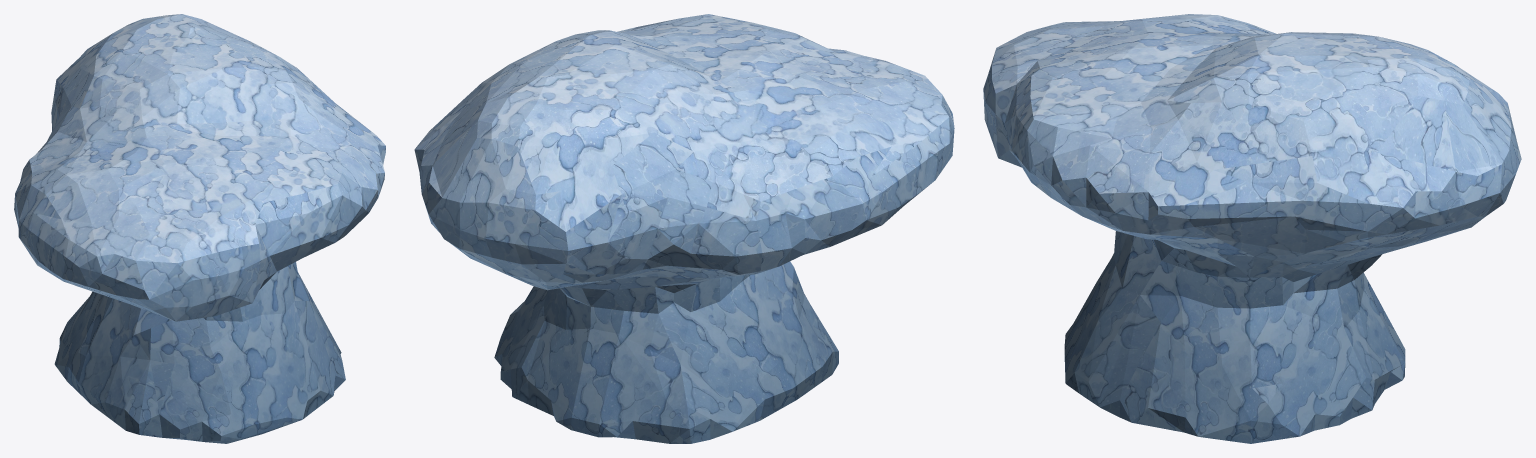
File: ice_berg_a.glb
The picture shows the model from 3 angles, left to right: view 1: azimuth 30°, elevation 25°; view 2: azimuth 150°, elevation 25°; view 3: azimuth 270°, elevation 25°; orthographic projection. The views are drawn at different scales.
Visible parts, largest first — view 1: ice_berg_a; view 2: ice_berg_a; view 3: ice_berg_a.
Part boxes in pixels (x1,y1,x2,y2): ice_berg_a: (14, 14, 385, 443); ice_berg_a: (414, 14, 954, 443); ice_berg_a: (983, 14, 1521, 443).
Bounding box in the file's own units: 9.21 × 7.92 × 10.91.
1 material, 1 textured.
